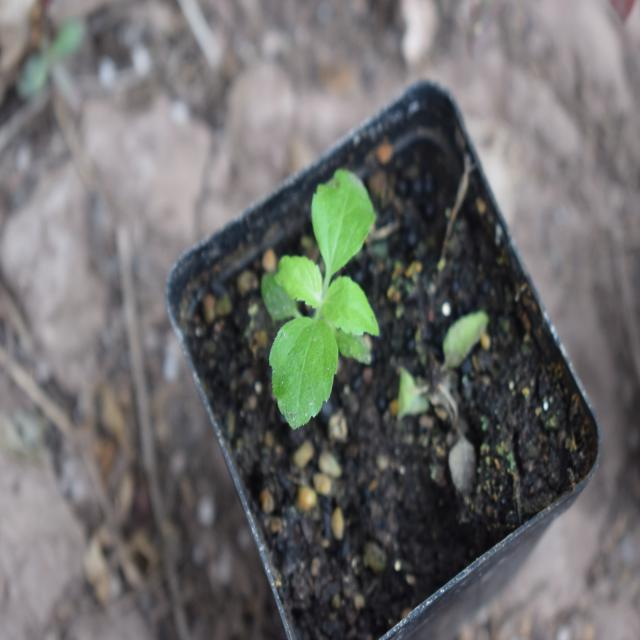billygoat_weed: (254, 167, 383, 430)
